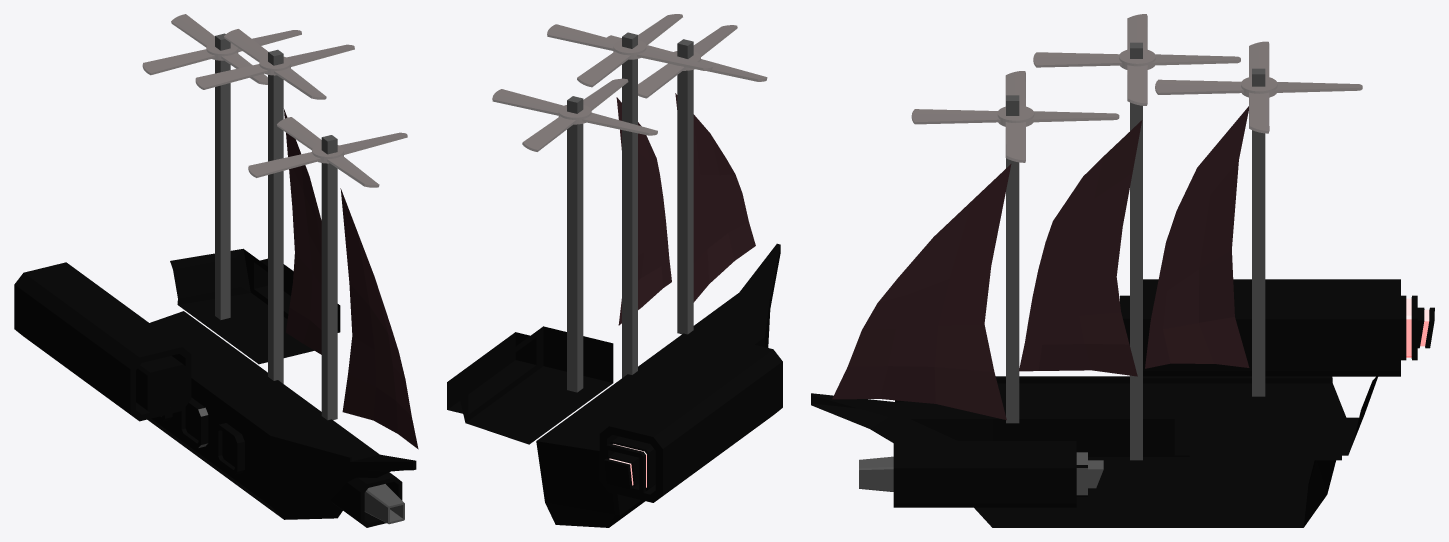
Rendered from ship.glb.
The picture shows the model from 3 angles, left to right: view 1: azimuth 30°, elevation 25°; view 2: azimuth 150°, elevation 25°; view 3: azimuth 270°, elevation 25°; orthographic projection. The views are drawn at different scales.
Parts seen in each view (by area): view 1: Cube, Cube.001, Plane, Cube.004, Plane.002, Cube.008, Cube.007, Cube.009, Cylinder.008, Cylinder.005, Cube.002, Cylinder.003 (+2 smaller); view 2: Cube.001, Cube, Cube.004, Plane, Cube.008, Cube.009, Cube.007, Plane.002, Cylinder.008, Cylinder.003, Cylinder.005; view 3: Cube, Plane, Cube.001, Plane.002, Plane.001, Cube.002, Cube.004, Cube.008, Cube.009, Cylinder.008, Cylinder.003, Cube.007 (+3 smaller).
Boxes of the visible parts, bbox=[...] form: Cube: bbox=[147, 311, 416, 519]; Cube.001: bbox=[14, 262, 191, 421]; Plane: bbox=[340, 188, 418, 449]; Cube.004: bbox=[170, 248, 340, 364]; Plane.002: bbox=[284, 109, 321, 354]; Cube.008: bbox=[268, 49, 283, 383]; Cube.007: bbox=[321, 135, 337, 420]; Cube.009: bbox=[215, 33, 230, 319]; Cylinder.008: bbox=[195, 29, 354, 99]; Cylinder.005: bbox=[248, 117, 407, 187]; Cube.002: bbox=[330, 472, 404, 527]; Cylinder.003: bbox=[142, 14, 301, 84]; Cube.001: bbox=[599, 338, 782, 502]; Cube: bbox=[536, 243, 780, 527]; Cube.004: bbox=[447, 326, 613, 444]; Plane: bbox=[675, 93, 755, 302]; Cube.008: bbox=[622, 32, 637, 377]; Cube.009: bbox=[567, 96, 583, 392]; Cube.007: bbox=[677, 39, 693, 334]; Plane.002: bbox=[616, 97, 671, 325]; Cylinder.008: bbox=[547, 14, 712, 87]; Cylinder.003: bbox=[492, 78, 657, 151]; Cylinder.005: bbox=[607, 25, 767, 98]; Cube: bbox=[811, 376, 1346, 527]; Plane: bbox=[832, 164, 1011, 420]; Cube.001: bbox=[1120, 279, 1434, 376]; Plane.002: bbox=[1019, 120, 1142, 376]; Plane.001: bbox=[1145, 106, 1249, 368]; Cube.002: bbox=[859, 441, 1103, 507]; Cube.004: bbox=[1174, 374, 1378, 460]; Cube.008: bbox=[1130, 42, 1142, 460]; Cube.009: bbox=[1252, 68, 1265, 396]; Cylinder.008: bbox=[1033, 14, 1240, 105]; Cylinder.003: bbox=[1155, 41, 1362, 133]; Cube.007: bbox=[1006, 95, 1019, 423].
Size of the model in its own units: 12.64 by 21.63 by 25.31.
